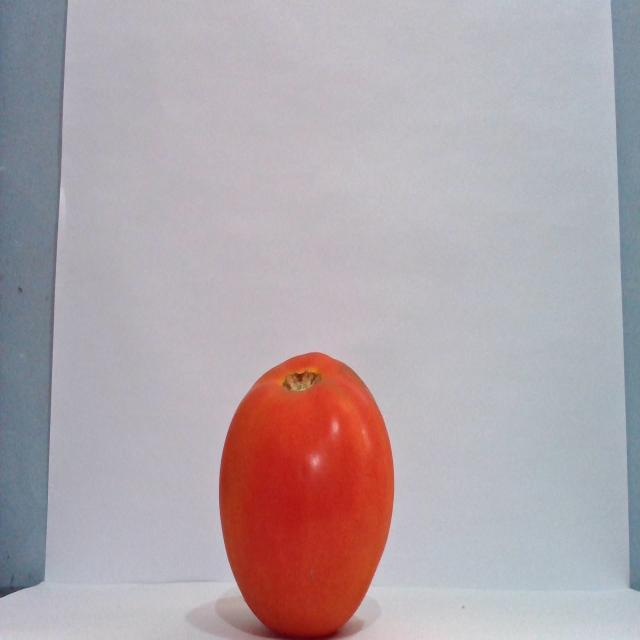Red: (216, 350, 395, 637)
